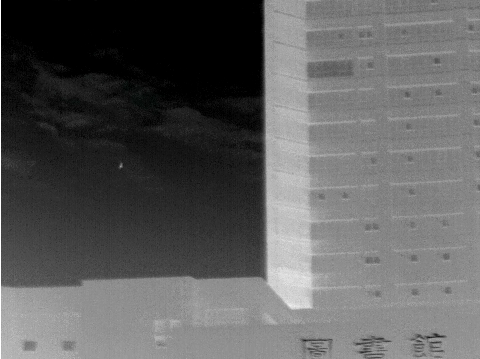dim target: (112, 156, 129, 174)
